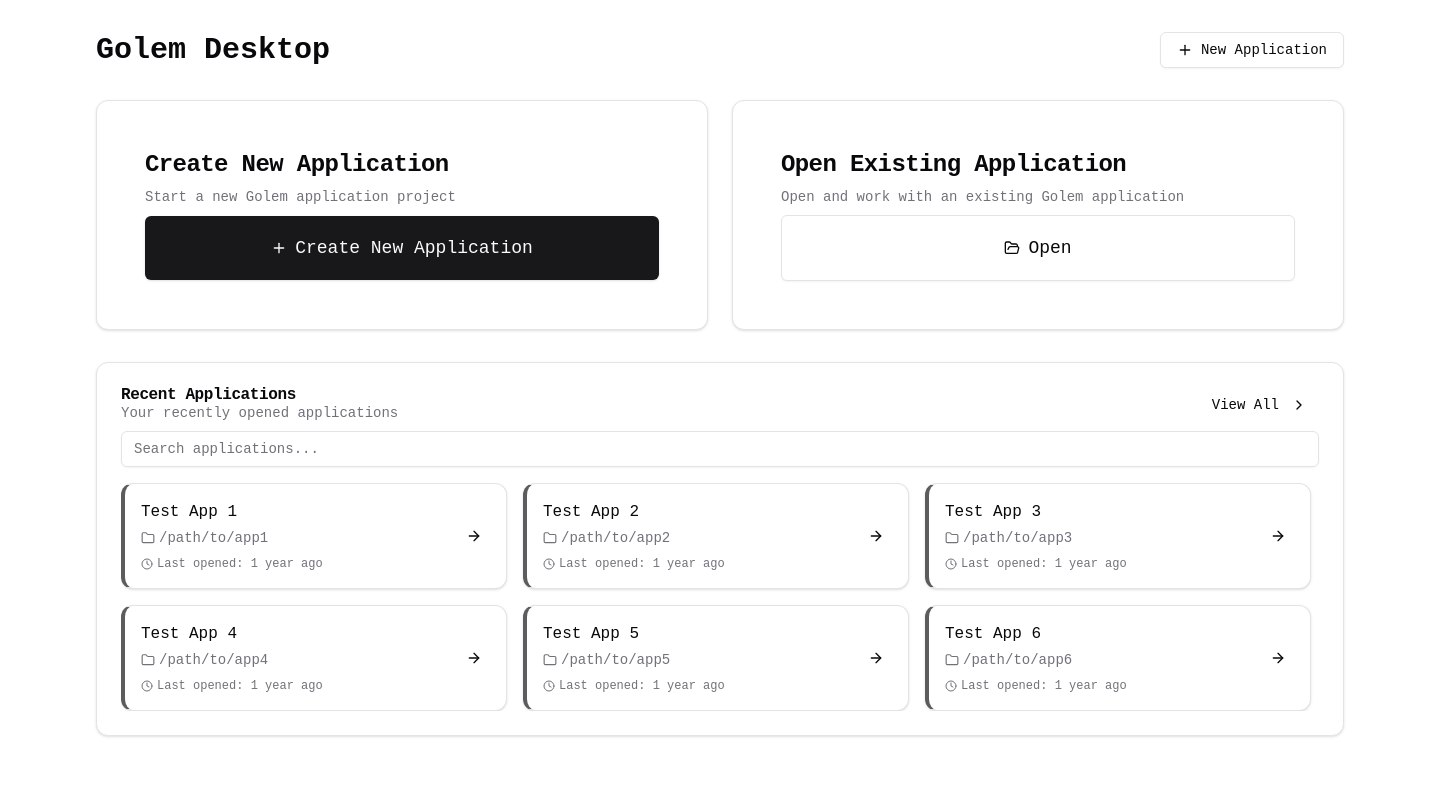
Test case: Home Page › App display functionality › should toggle between showing all apps and limited apps
The width and height of the screenshot is (1440, 802).
Click the button "View All".
click(1259, 405)  # box [1200,389,1319,421]
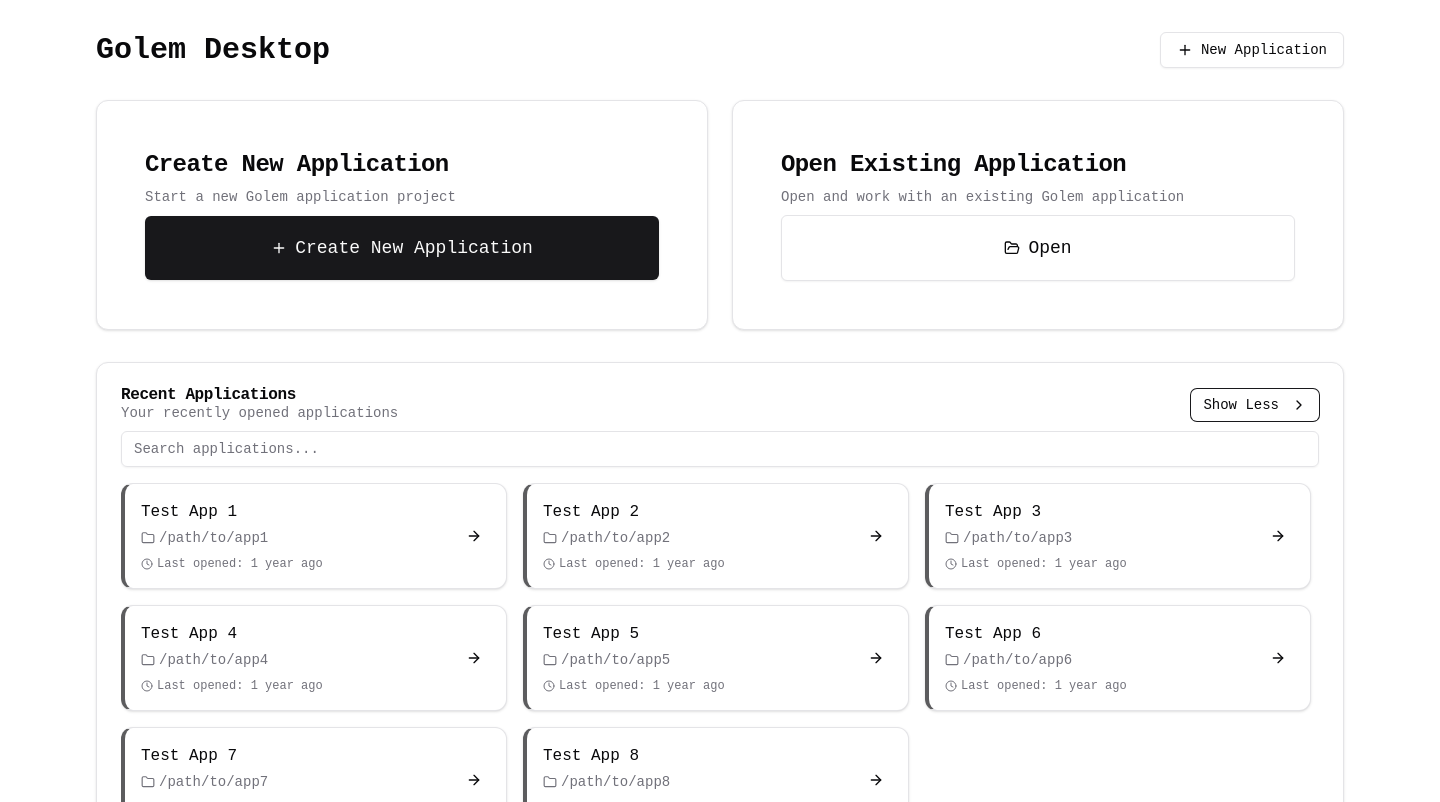
Now the button "Show Less" is shown, box [1191,389,1319,421]
